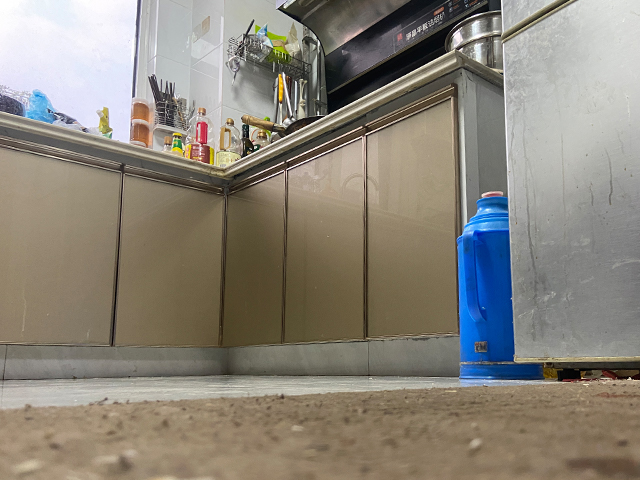cabinet: (228, 57, 477, 375), (1, 120, 223, 382)
carpet: (1, 380, 640, 480)
